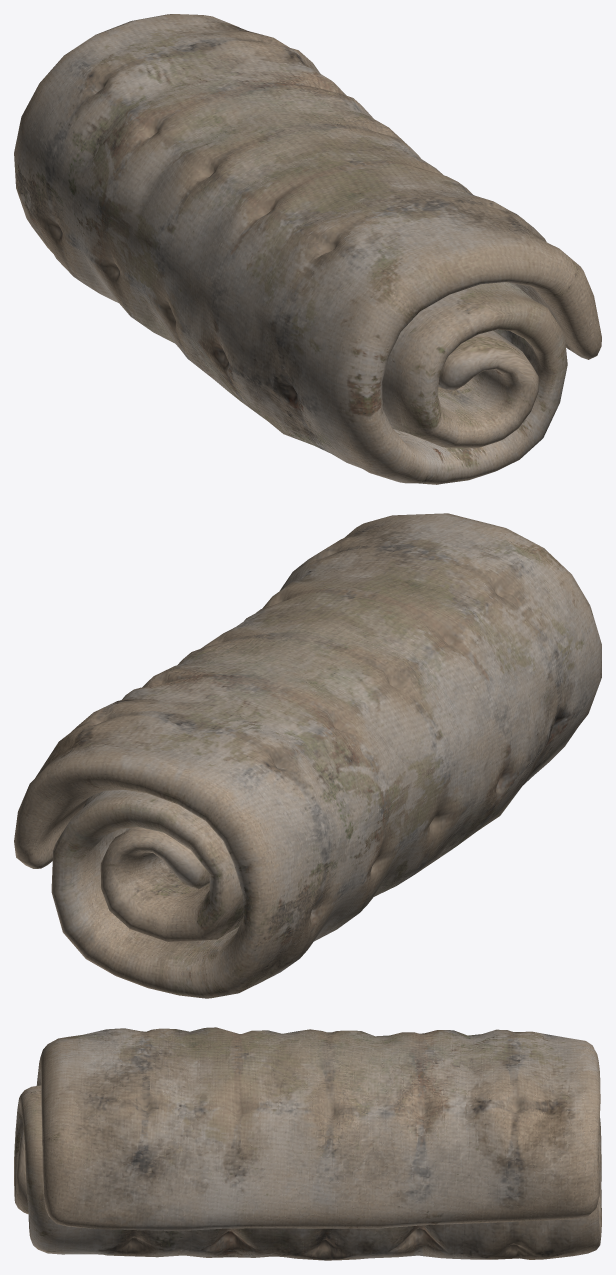
Rendered from SM_Mattress01_2_LOD0.glb.
3 renders of one model, top to bottom at view 1: azimuth 30°, elevation 25°; view 2: azimuth 150°, elevation 25°; view 3: azimuth 270°, elevation 25°, orthographic. The views are drawn at different scales.
Parts seen in each view (by area): view 1: SM_Mattress01_2_LOD0; view 2: SM_Mattress01_2_LOD0; view 3: SM_Mattress01_2_LOD0.
Boxes of the visible parts, left/top/right/bottom form: SM_Mattress01_2_LOD0: left=14, top=14, right=601, bottom=484; SM_Mattress01_2_LOD0: left=14, top=513, right=601, bottom=998; SM_Mattress01_2_LOD0: left=14, top=1027, right=601, bottom=1260.
Bounding box in the file's own units: 0.5095 × 0.413 × 1.09.
1 material, 1 textured.
